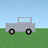vehicle: (6, 17, 35, 34)
